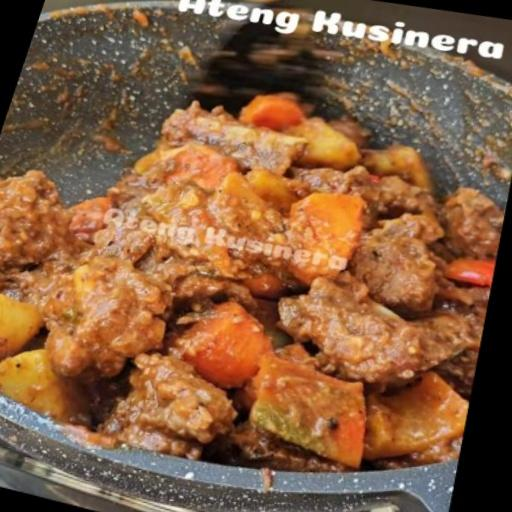pork caldereta: (0, 95, 511, 470)
